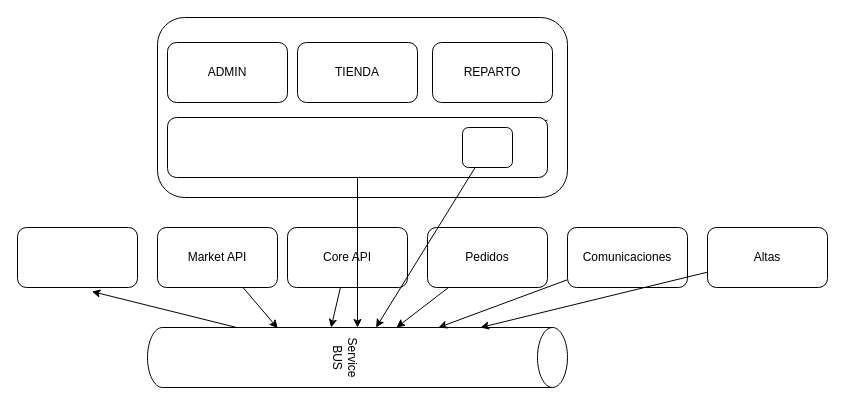
Image size: 845x405. Some labels were removed from this diagram. Each missing label, with the box of its shape:
Auth: (462, 126, 512, 168)
BFF: (166, 116, 548, 178)
DATA: (16, 226, 138, 288)
